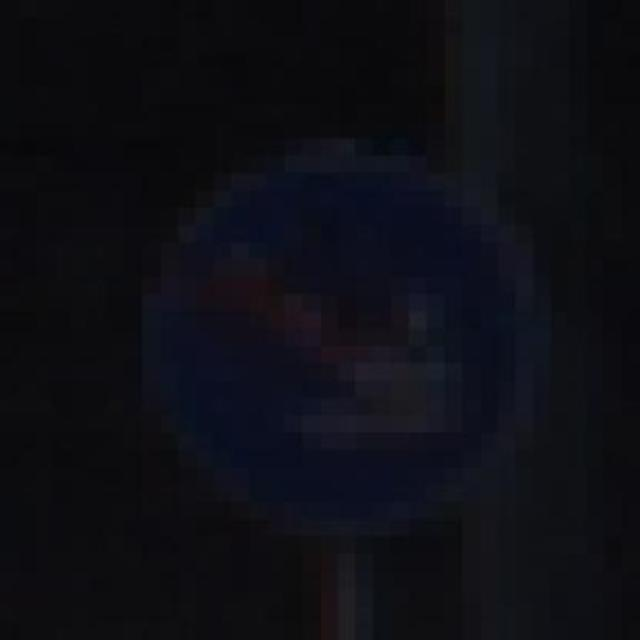Keep-Right: (125, 86, 569, 554)
